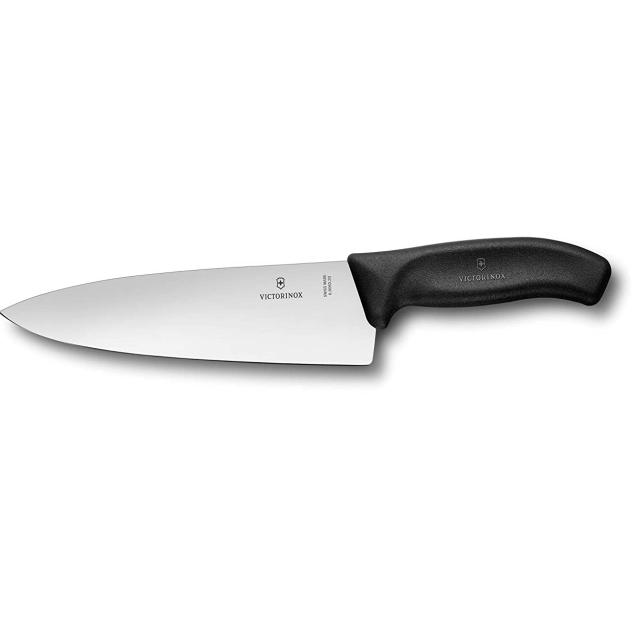Weapon: (2, 238, 610, 364)
